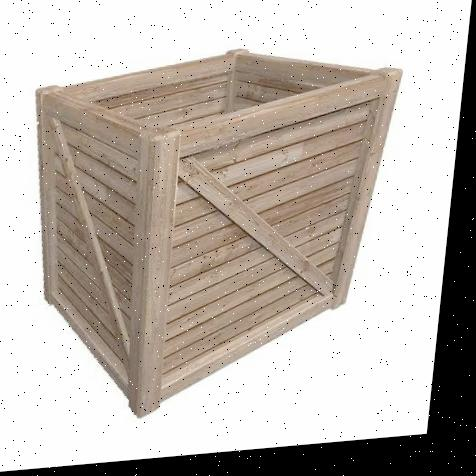cube: (12, 45, 404, 433)
